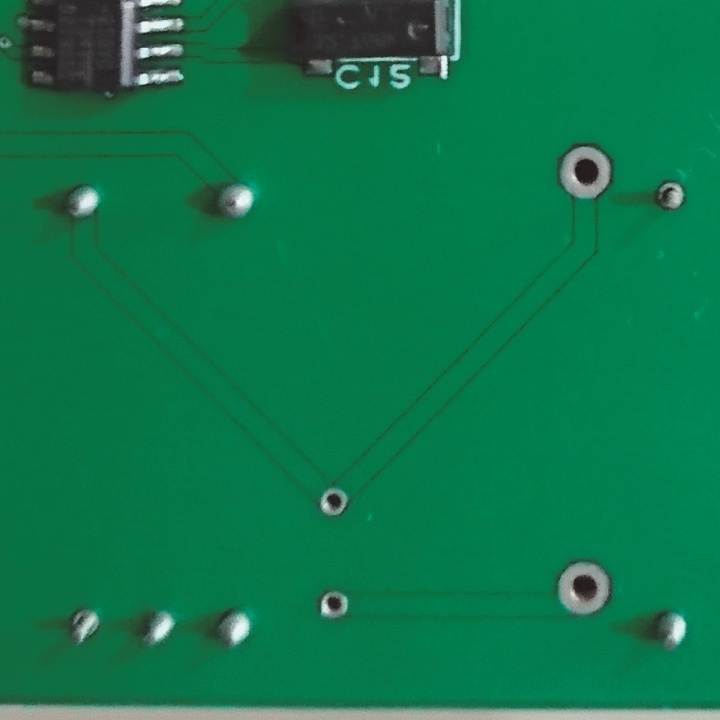F: (556, 144, 616, 203), (555, 558, 613, 619), (652, 176, 689, 218), (66, 606, 101, 646), (319, 485, 356, 521), (319, 587, 352, 627)
